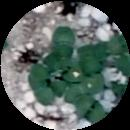Basil: (30, 65, 52, 106), (48, 55, 87, 77), (82, 61, 109, 92), (52, 25, 76, 55), (78, 95, 102, 125), (101, 35, 130, 57), (56, 78, 77, 102)
